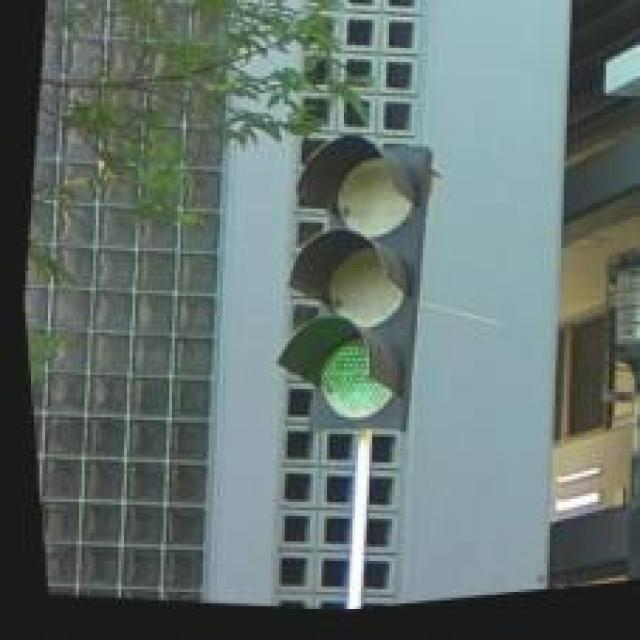Lampu Hijau: (251, 130, 443, 452)
